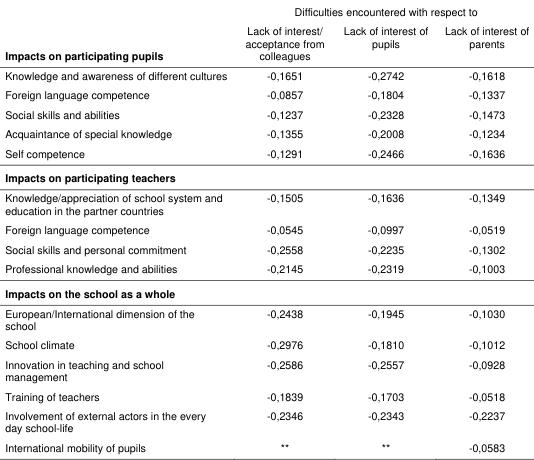table: (4, 3, 528, 453)
table column: (4, 3, 235, 453), (333, 3, 435, 453), (235, 3, 333, 453), (435, 3, 528, 453)
table column header: (4, 3, 528, 64)
table projected row header: (4, 164, 528, 187), (4, 280, 528, 302)
table row: (4, 20, 528, 64), (4, 187, 528, 219), (4, 302, 528, 334), (4, 354, 528, 385), (4, 405, 528, 436), (4, 164, 528, 187), (4, 142, 528, 164), (4, 258, 528, 280), (4, 280, 528, 302), (4, 64, 528, 84), (4, 103, 528, 123), (4, 238, 528, 258), (4, 334, 528, 354), (4, 385, 528, 405), (4, 84, 528, 103), (4, 123, 528, 142), (4, 219, 528, 238), (4, 3, 528, 20), (4, 436, 528, 453)
table spanning cell: (4, 3, 235, 64), (235, 3, 528, 20)
